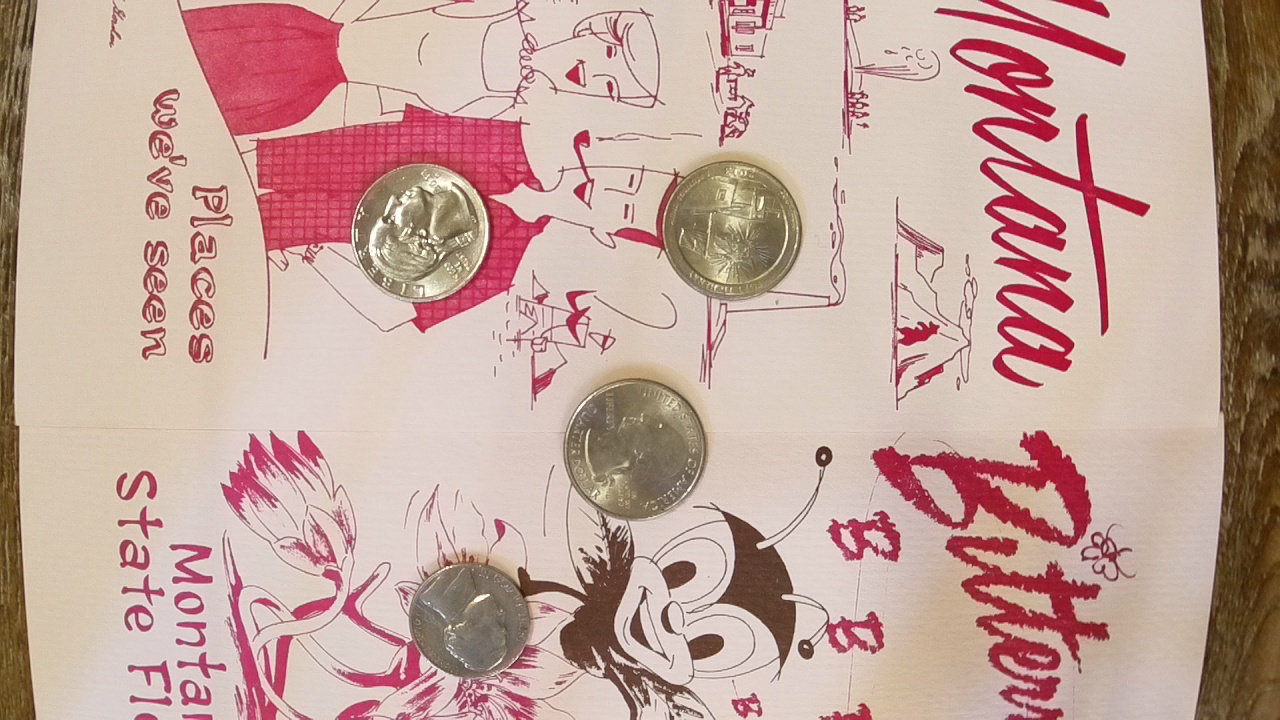nickel: (407, 558, 531, 678)
quarter: (659, 160, 805, 298), (566, 378, 706, 518), (352, 159, 486, 305)
